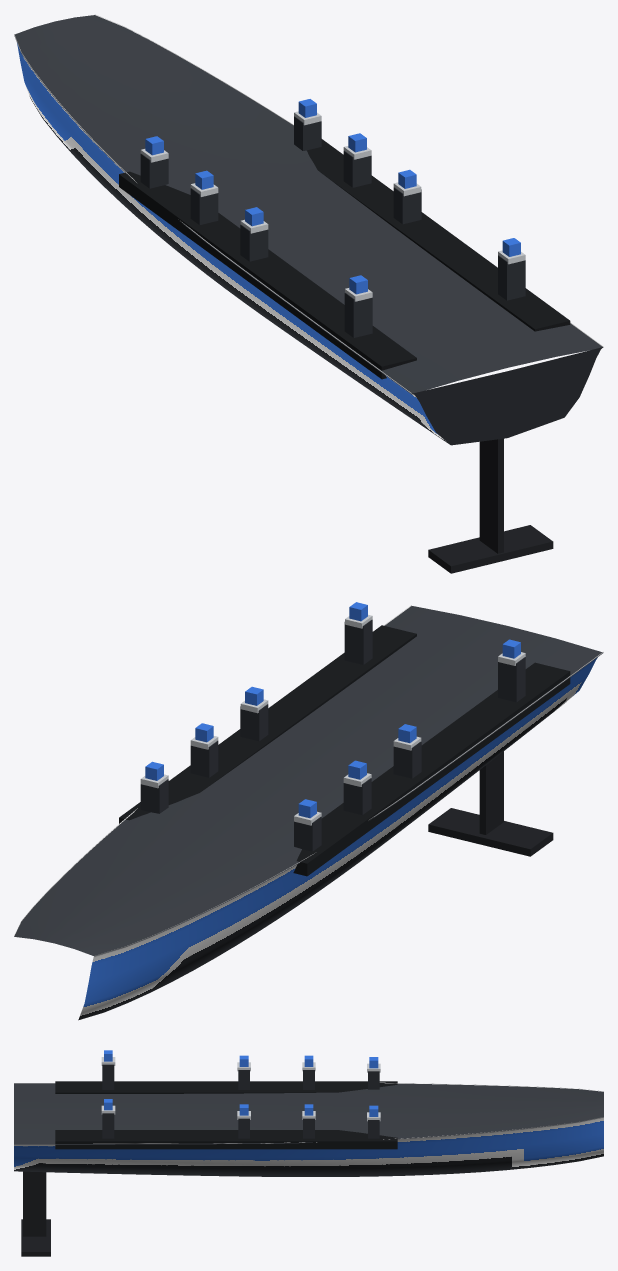
The model's file is hull_2.glb.
3 renders of one model, top to bottom at view 1: azimuth 30°, elevation 25°; view 2: azimuth 150°, elevation 25°; view 3: azimuth 270°, elevation 25°, orthographic. The views are drawn at different scales.
Visible parts, largest first — view 1: hull_2_body; view 2: hull_2_body; view 3: hull_2_body.
Part boxes in pixels (x1,y1,x2,y2): hull_2_body: (14, 14, 603, 573); hull_2_body: (14, 602, 603, 1020); hull_2_body: (14, 1050, 603, 1256).
Size of the model in its own units: 4.9 by 6.13 by 20.
Materials: 1 (1 with a texture image).
